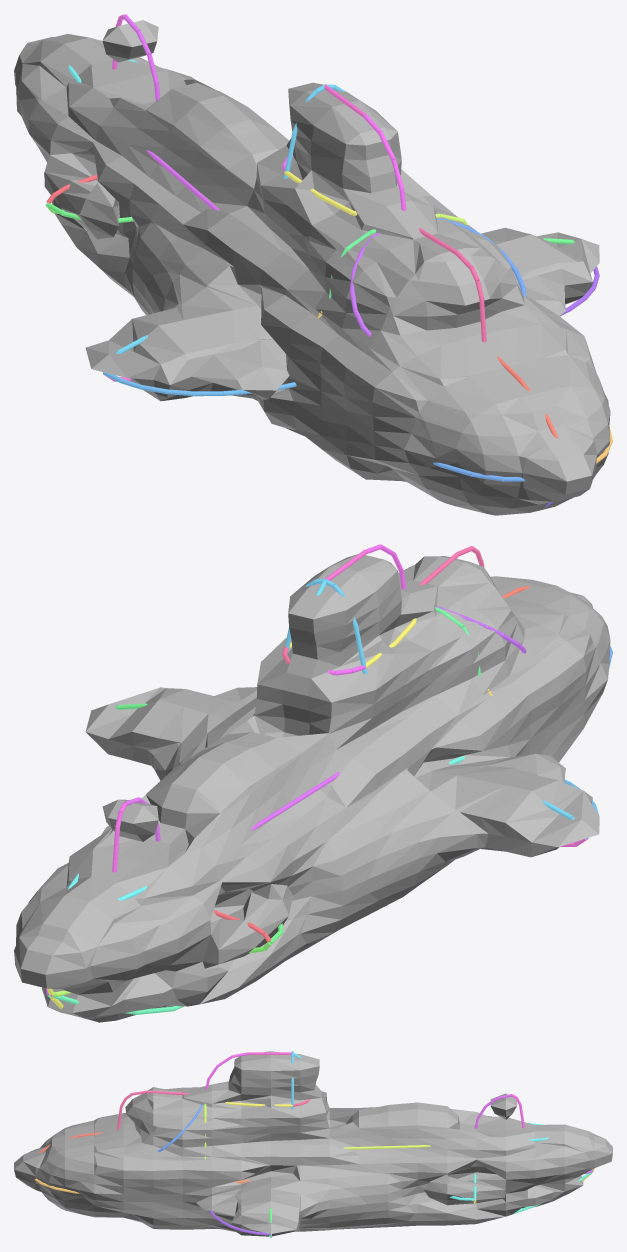
File: scaffolds3d_submarine.gltf
3 views of the same model, one above another, from view 1: azimuth 30°, elevation 25°; view 2: azimuth 150°, elevation 25°; view 3: azimuth 270°, elevation 25° (orthographic). The views are drawn at different scales.
Bounding box in the file's own units: 0.4821 × 0.2804 × 0.8983.
